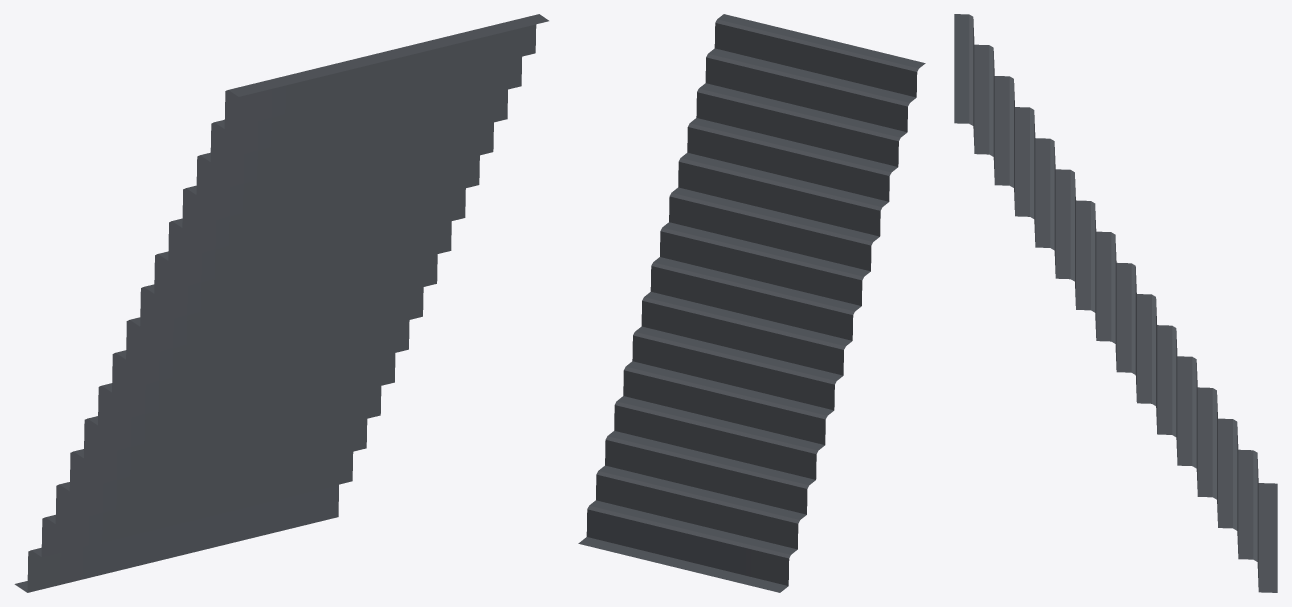
File: Stairs 03.FBX
3 views of the same model, side by side, from view 1: azimuth 30°, elevation 25°; view 2: azimuth 150°, elevation 25°; view 3: azimuth 270°, elevation 25° (orthographic). The views are drawn at different scales.
Visible parts, largest first — view 1: Stairs 03; view 2: Stairs 03; view 3: Stairs 03.
Boxes of the visible parts, x1,y1,x2,y2 form: Stairs 03: (14,14,548,592); Stairs 03: (578,14,925,592); Stairs 03: (954,14,1277,592).
Size of the model in its own units: 200 by 400 by 250.
